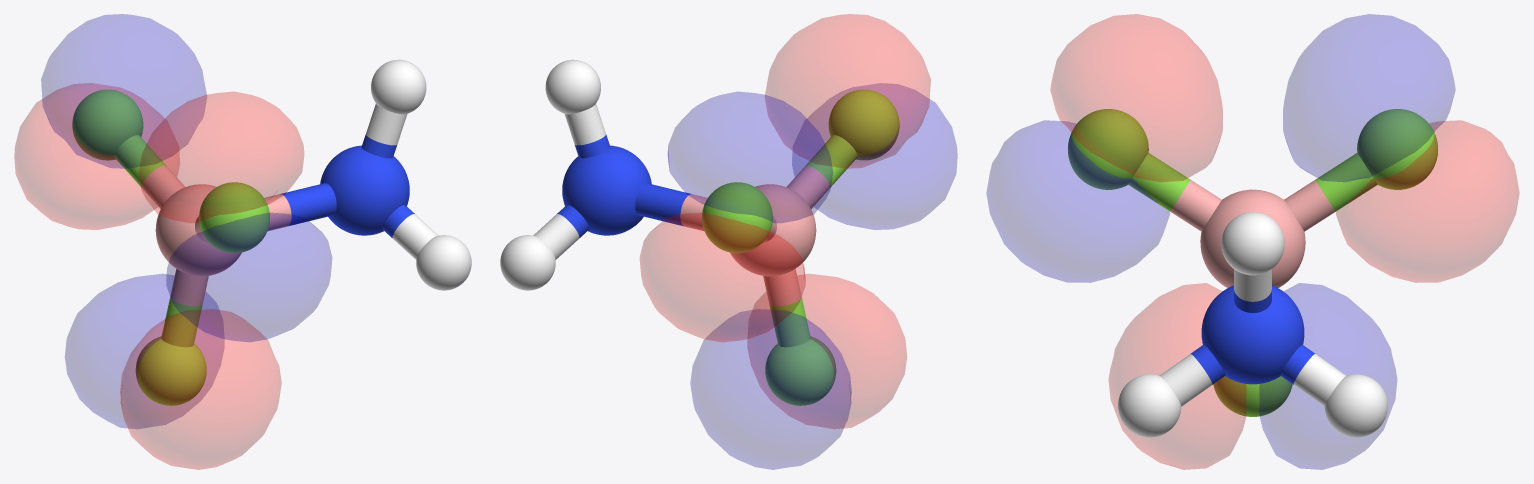
3 views of the same model, side by side, from view 1: azimuth 30°, elevation 25°; view 2: azimuth 150°, elevation 25°; view 3: azimuth 270°, elevation 25° (orthographic). The views are drawn at different scales.
Visible parts, largest first — view 1: surface.001, surface, atoms.001, atoms.003, atoms.002, atoms, bonds, bonds.001, bonds.003, bonds.002; view 2: surface, surface.001, atoms.001, atoms.003, atoms.002, atoms, bonds, bonds.001, bonds.003, bonds.002; view 3: surface.001, surface, atoms.001, atoms.002, atoms.003, atoms, bonds.002, bonds.001, bonds, bonds.003.
Part boxes in pixels (bbox=[...]): surface.001: bbox=[41, 14, 331, 428]; surface: bbox=[14, 83, 304, 469]; atoms.001: bbox=[72, 89, 269, 405]; atoms.003: bbox=[320, 145, 409, 235]; atoms.002: bbox=[371, 59, 471, 290]; atoms: bbox=[155, 184, 241, 276]; bonds: bbox=[142, 165, 291, 306]; bonds.001: bbox=[114, 135, 202, 347]; bonds.003: bbox=[280, 134, 414, 237]; bonds.002: bbox=[366, 104, 438, 259]; surface: bbox=[640, 14, 930, 428]; surface.001: bbox=[667, 83, 957, 469]; atoms.001: bbox=[702, 89, 899, 405]; atoms.003: bbox=[562, 145, 651, 235]; atoms.002: bbox=[500, 59, 600, 290]; atoms: bbox=[730, 184, 816, 276]; bonds: bbox=[680, 165, 829, 306]; bonds.001: bbox=[769, 135, 857, 347]; bonds.003: bbox=[557, 134, 691, 237]; bonds.002: bbox=[533, 104, 605, 259]; surface.001: bbox=[986, 14, 1455, 469]; surface: bbox=[1050, 14, 1519, 469]; atoms.001: bbox=[1068, 109, 1437, 416]; atoms.002: bbox=[1118, 212, 1387, 437]; atoms.003: bbox=[1201, 285, 1304, 384]; atoms: bbox=[1200, 189, 1305, 287]; bonds.002: bbox=[1159, 269, 1346, 406]; bonds.001: bbox=[1128, 153, 1377, 211]; bonds: bbox=[1170, 180, 1335, 231]; bonds.003: bbox=[1190, 290, 1315, 384].
Size of the model in its own units: 3.37 by 3.79 by 4.21.
